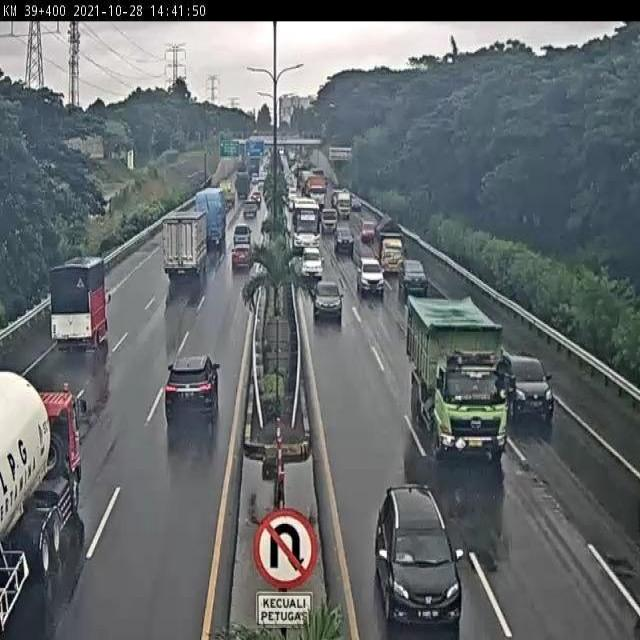car: (48, 259, 110, 348)
